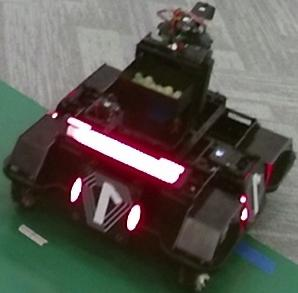armor_1: (71, 178, 141, 230)
back_1: (82, 172, 131, 234)
light: (67, 115, 185, 184)
right_1: (246, 168, 264, 218)
